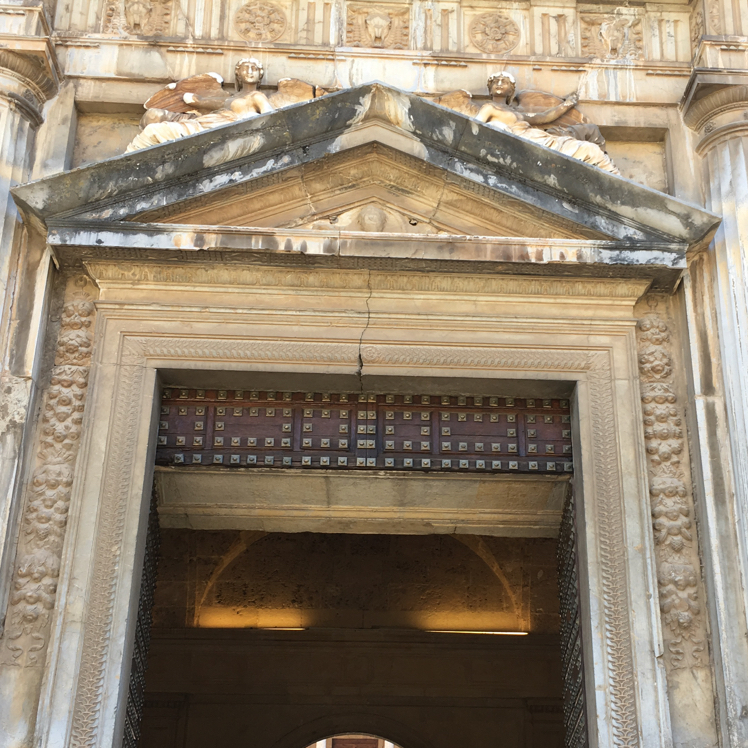fronton: (10, 74, 728, 279)
vano-adintelado: (44, 302, 671, 748)
